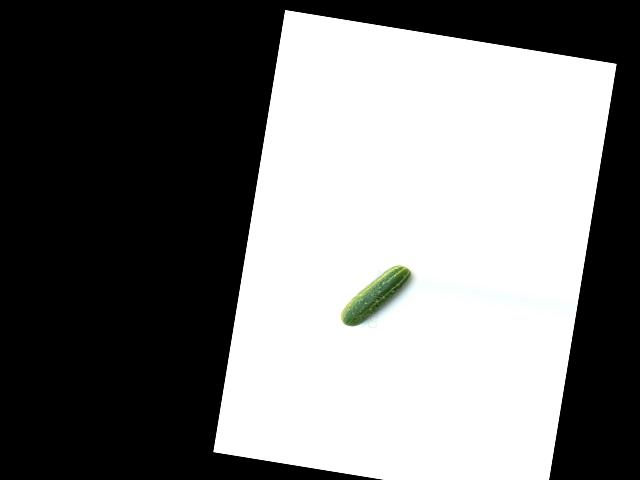cucumber: (339, 256, 412, 334)
